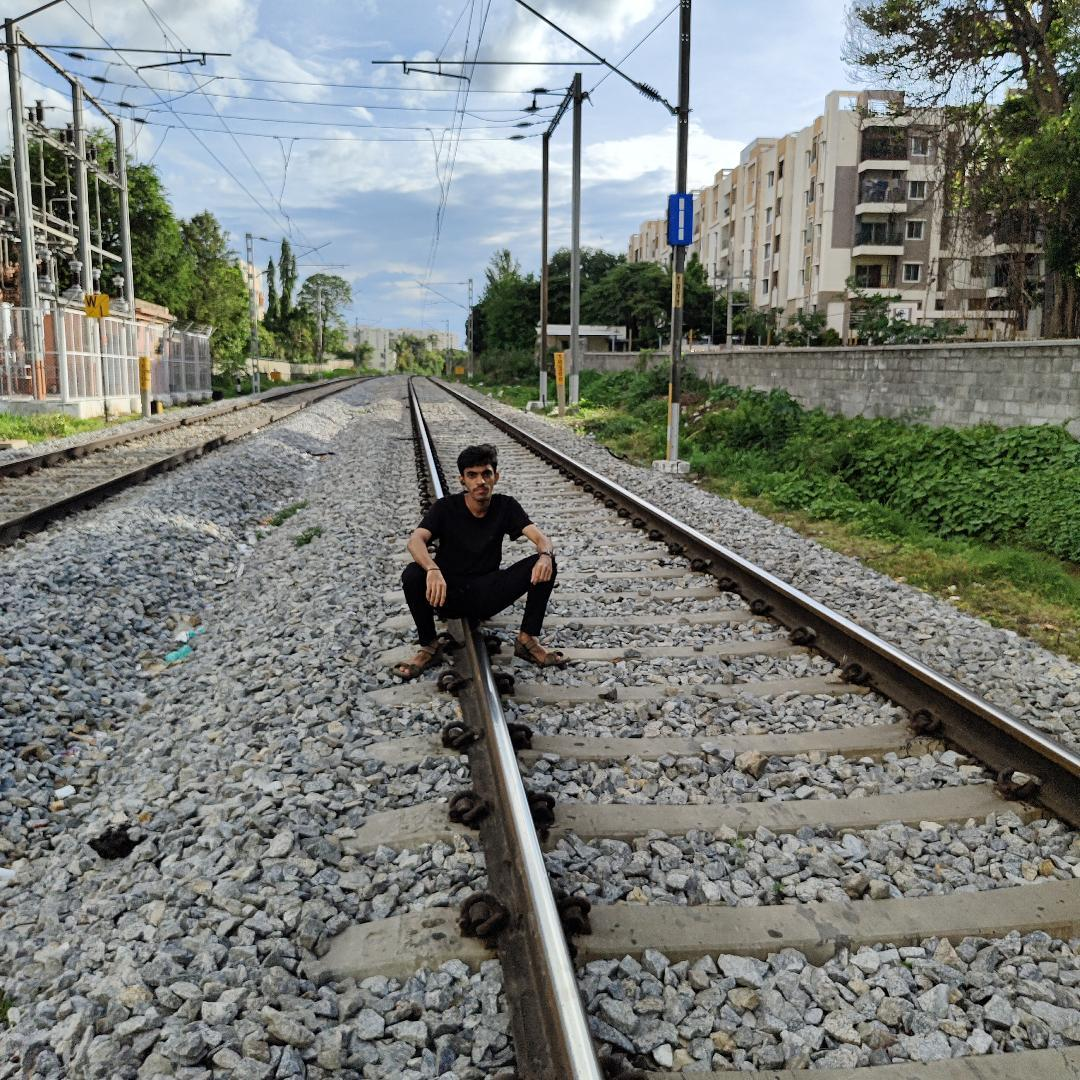sitting: (394, 428, 589, 700)
